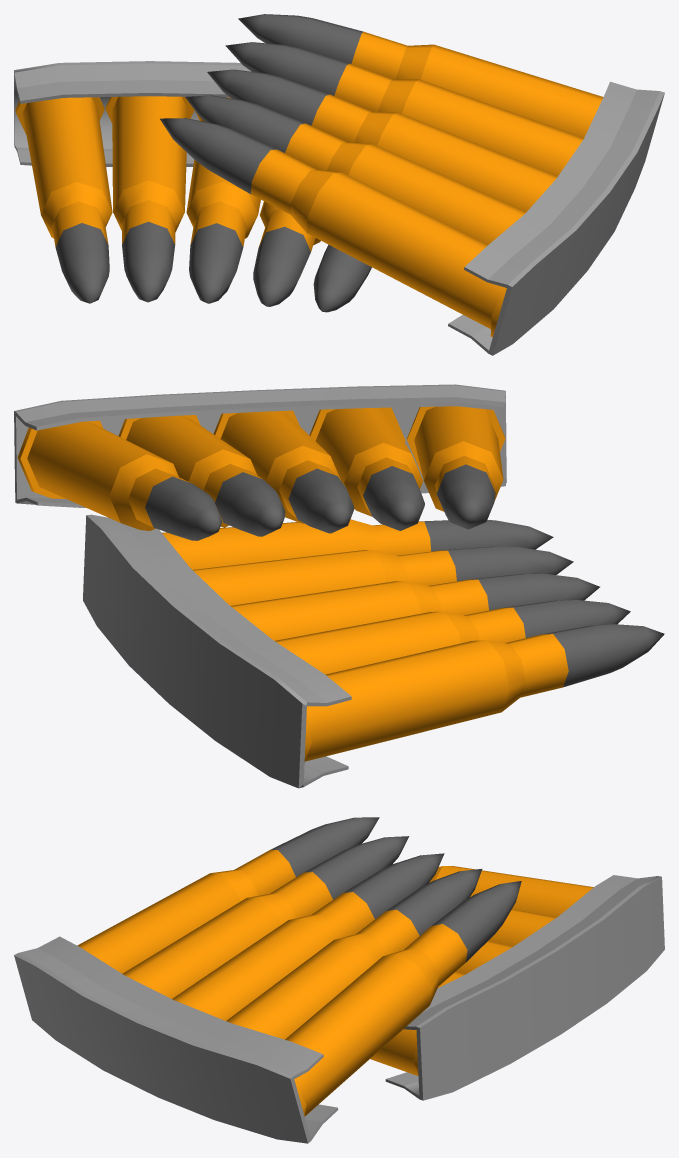
Rendered from SniperRifle_Ammo.fbx.
3 renders of one model, top to bottom at view 1: azimuth 30°, elevation 25°; view 2: azimuth 150°, elevation 25°; view 3: azimuth 270°, elevation 25°, orthographic. The views are drawn at different scales.
Visible parts, largest first — view 1: Cube.003; view 2: Cube.003; view 3: Cube.003.
Boxes of the visible parts, x1,y1,x2,y2 form: Cube.003: (14, 14, 664, 355); Cube.003: (14, 384, 664, 788); Cube.003: (14, 817, 664, 1143).
Bounding box in the file's own units: 0.97 × 0.2542 × 0.9896.
